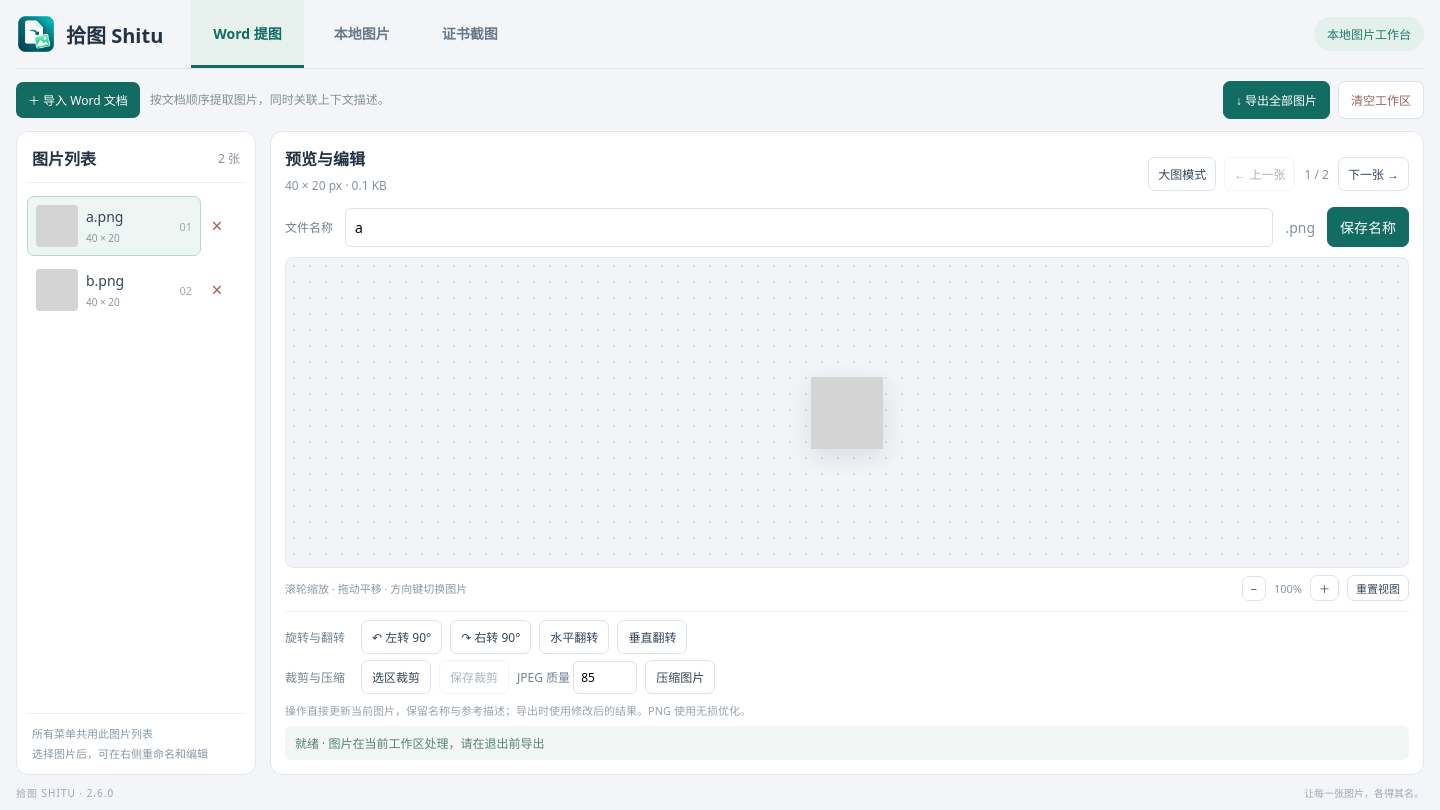
it: workspace actions › preserves selection when another image is deleted and cancellation never deletes
The width and height of the screenshot is (1440, 810).
Step 1. Click the button named "删除 b.png" → (217, 290), box [204,274,230,306]
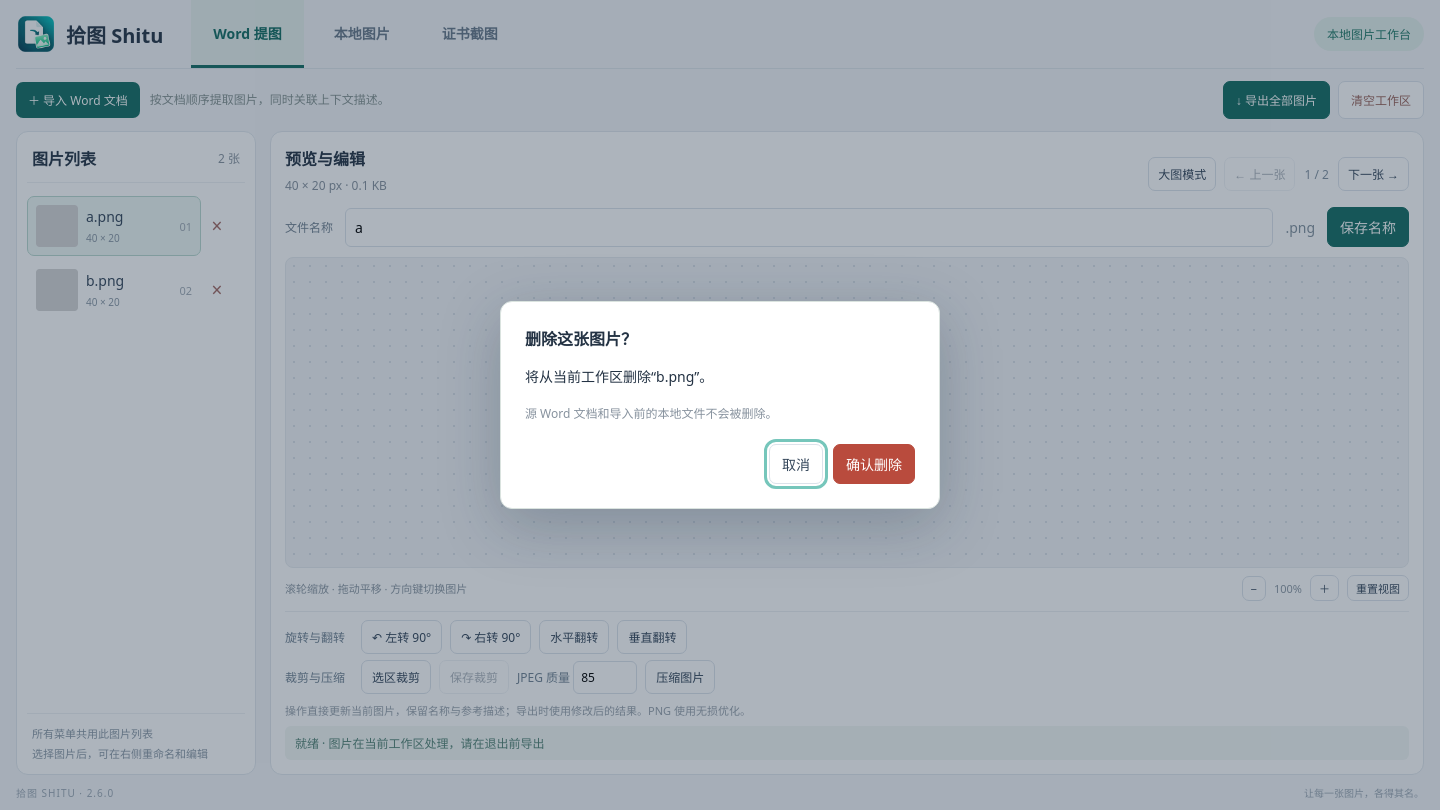
Step 2. Click the button "取消" → (796, 464), box [769,444,823,484]
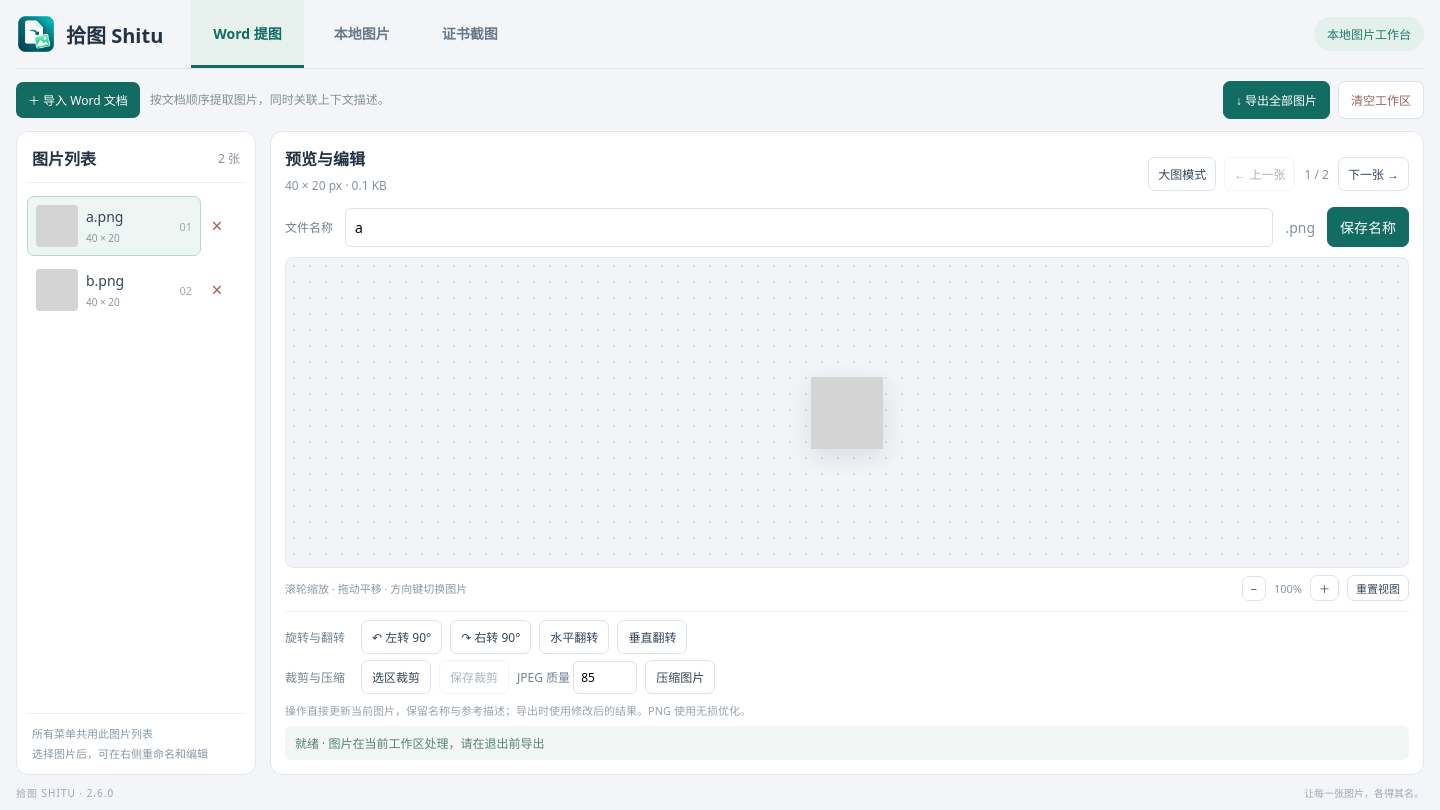
Expected: the number of elements with class "image-row" is 2, [27,196,230,256]; [27,260,230,320]
Step 3. Click the button named "删除 b.png" → (217, 290), box [204,274,230,306]
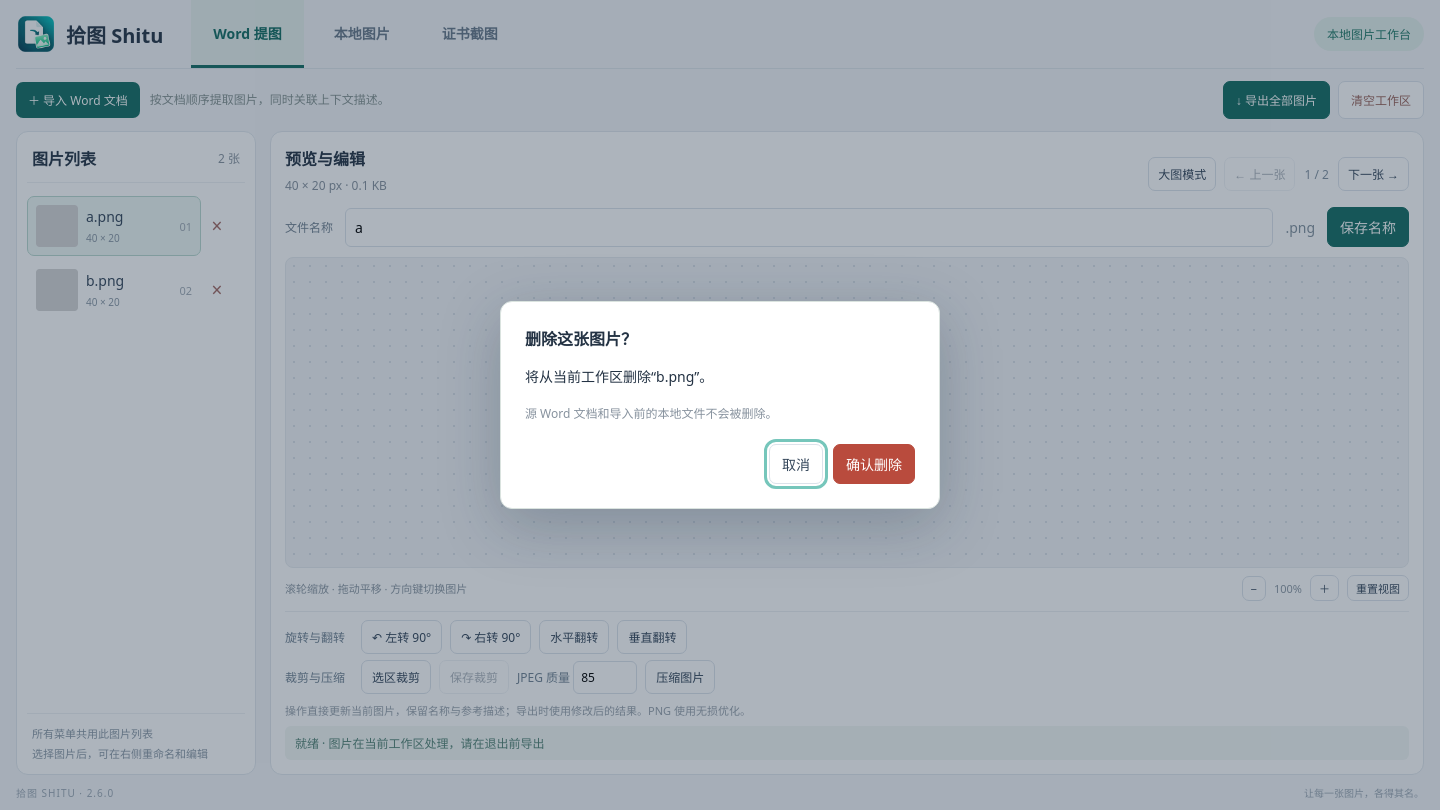
Step 4. Click the button "确认删除" → (874, 464), box [833,444,915,484]
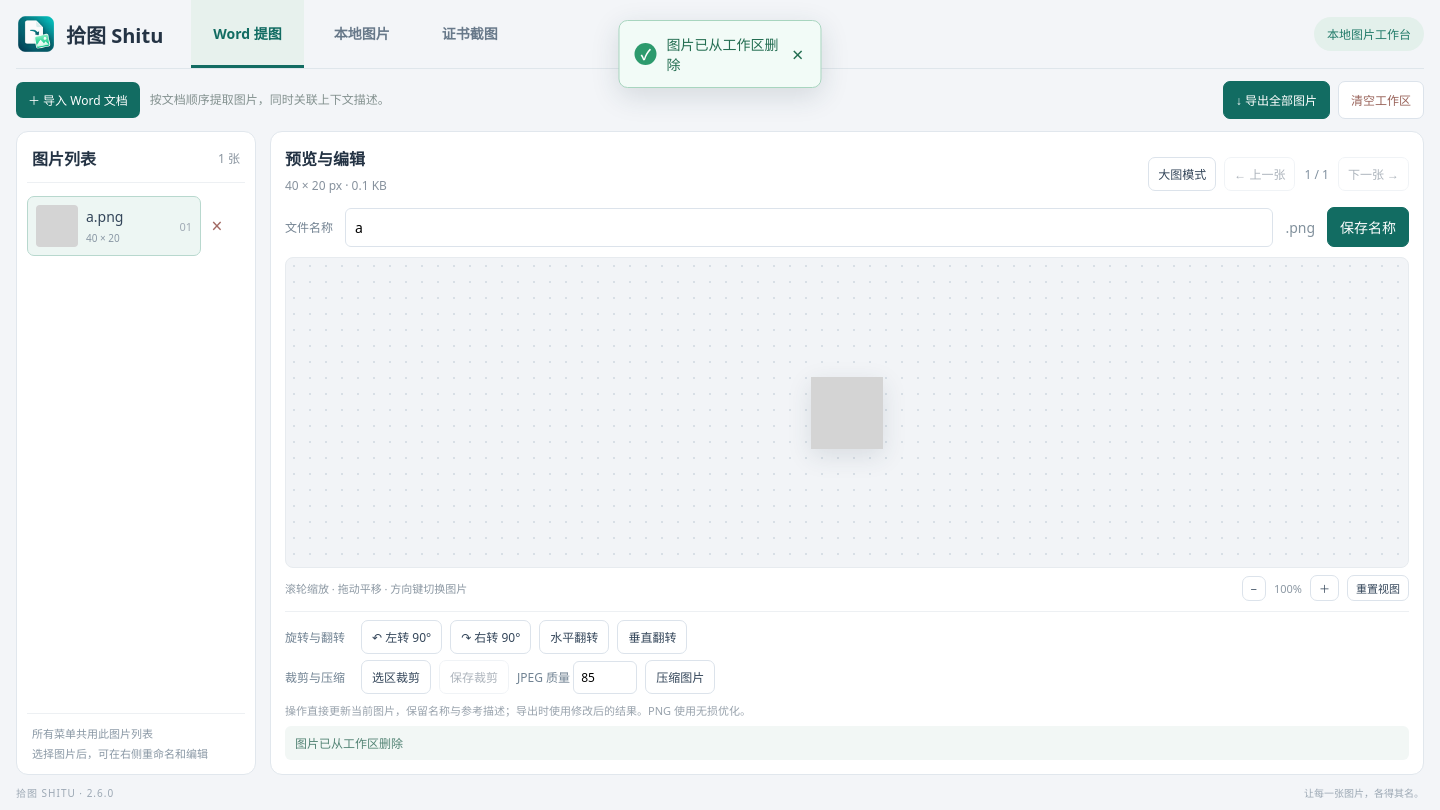
Expected: the field with id "filename" holds "a", [345,208,1273,246]
Now the navigation bar with class "image-pagination" shows "1 / 1", box [1304,166,1329,182]
